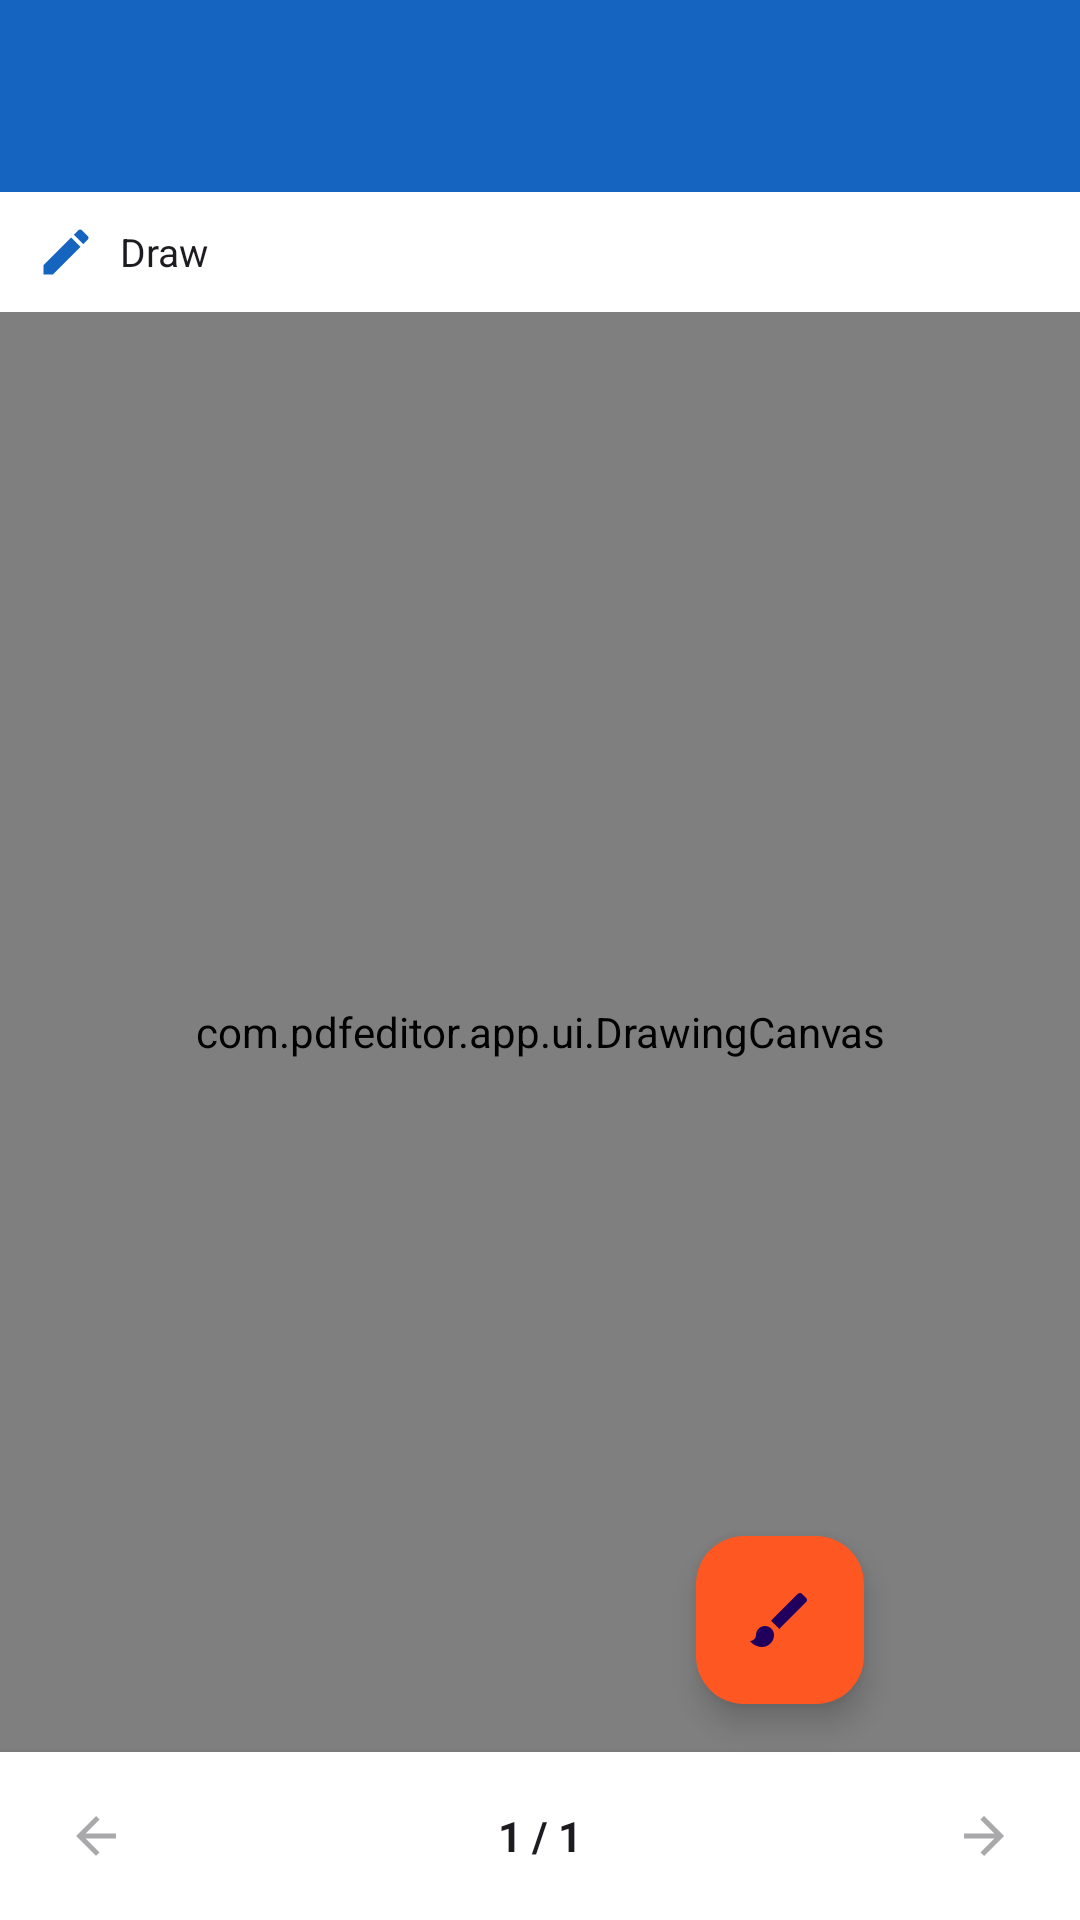

Named icons in this screenshot (1080px x 1920px) and their centers, (x=x, y=y):
Next page: (x=984, y=1836)
Previous page: (x=96, y=1836)
Tools: (x=780, y=1620)
